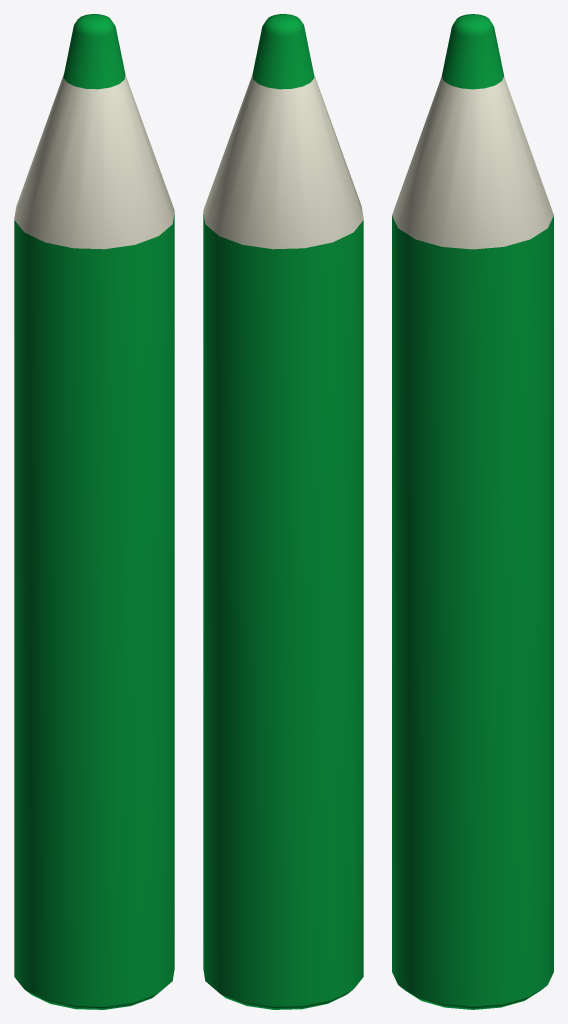
Rendered from Public_8_Pencil_6.glb.
3 views of the same model, side by side, from view 1: azimuth 30°, elevation 25°; view 2: azimuth 150°, elevation 25°; view 3: azimuth 270°, elevation 25° (orthographic).
Parts seen in each view (by area): view 1: Public_8_Pencil_6; view 2: Public_8_Pencil_6; view 3: Public_8_Pencil_6.
Part boxes in pixels (bbox=[...]): Public_8_Pencil_6: bbox=[14, 14, 174, 1009]; Public_8_Pencil_6: bbox=[203, 14, 363, 1009]; Public_8_Pencil_6: bbox=[392, 14, 553, 1009].
Size of the model in its own units: 0.1578 by 1.03 by 0.1578.
Materials: 1 (1 with a texture image).
